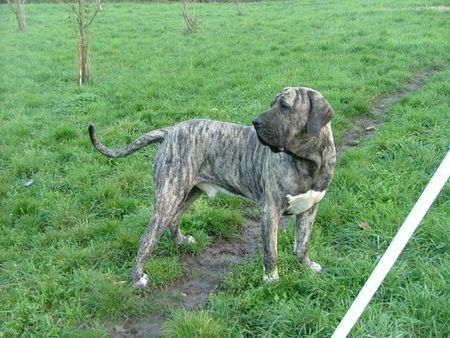fila_brasileiro: (87, 86, 337, 289)
